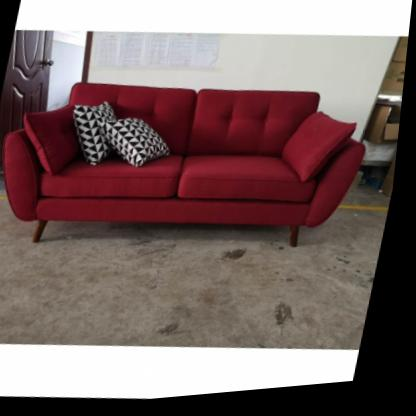Sofa: (0, 55, 384, 283)
